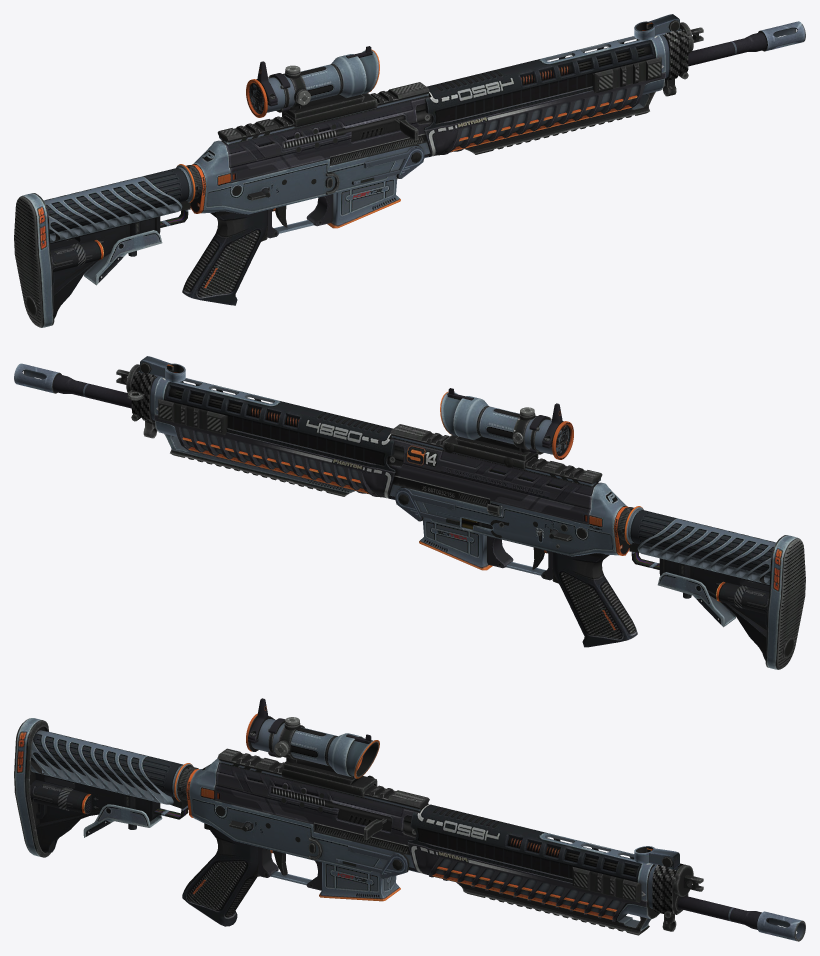
The model's file is w_specialcarbine_phantom.glb.
The picture shows the model from 3 angles, top to bottom: view 1: azimuth 30°, elevation 25°; view 2: azimuth 150°, elevation 25°; view 3: azimuth 330°, elevation 25°; orthographic projection.
Parts seen in each view (by area): view 1: Gun_Root; view 2: Gun_Root; view 3: Gun_Root.
Boxes of the visible parts, bbox=[...] form: Gun_Root: bbox=[14, 14, 805, 327]; Gun_Root: bbox=[14, 356, 805, 669]; Gun_Root: bbox=[14, 698, 805, 941].
Size of the model in its own units: 0.8722 by 0.2498 by 0.0802.
Materials: 1 (1 with a texture image).
